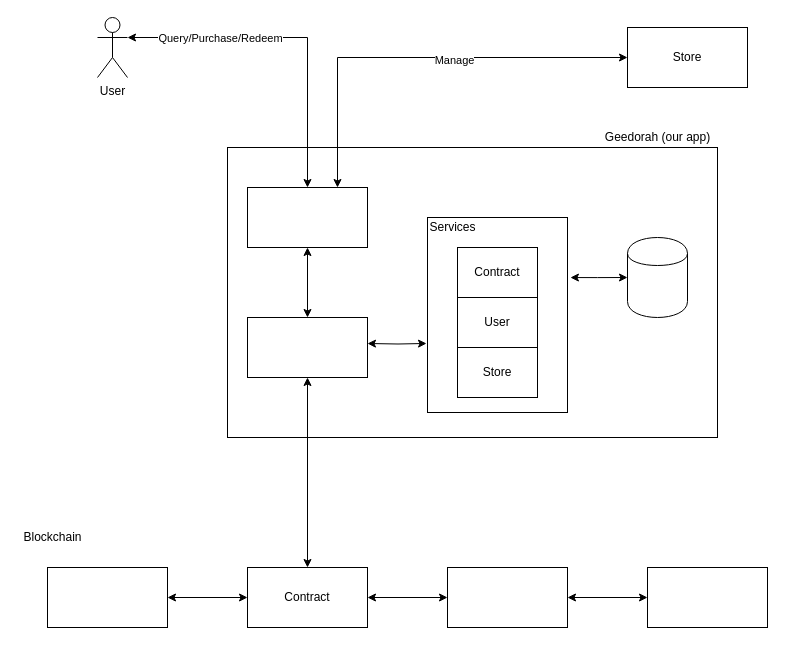
This 785x645 diagram has some shape labels left out. Each missing label, with the box of its shape:
API: (246, 316, 368, 378)
DB: (626, 236, 688, 318)
Frontend: (246, 186, 368, 248)
